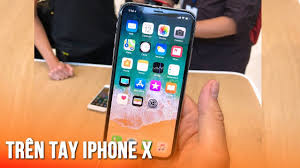iphone: (96, 1, 198, 160)
iphone10: (96, 2, 198, 161)
